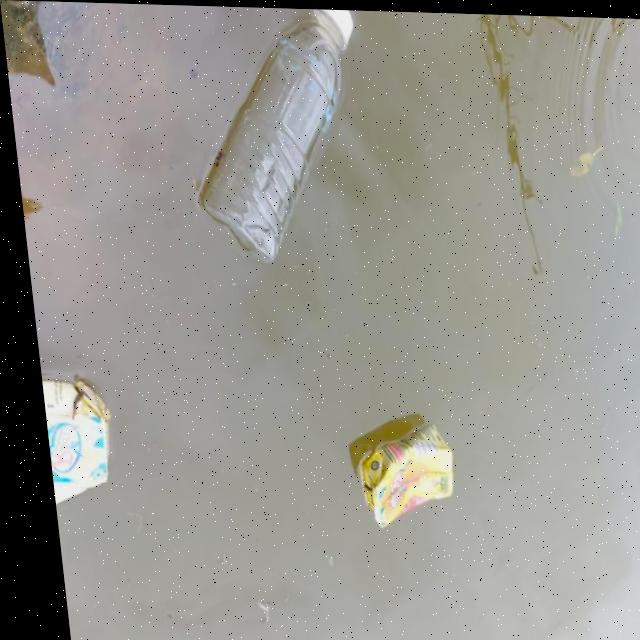paper: (32, 366, 126, 515), (332, 412, 454, 521)
waterbottle: (151, 4, 394, 262)
